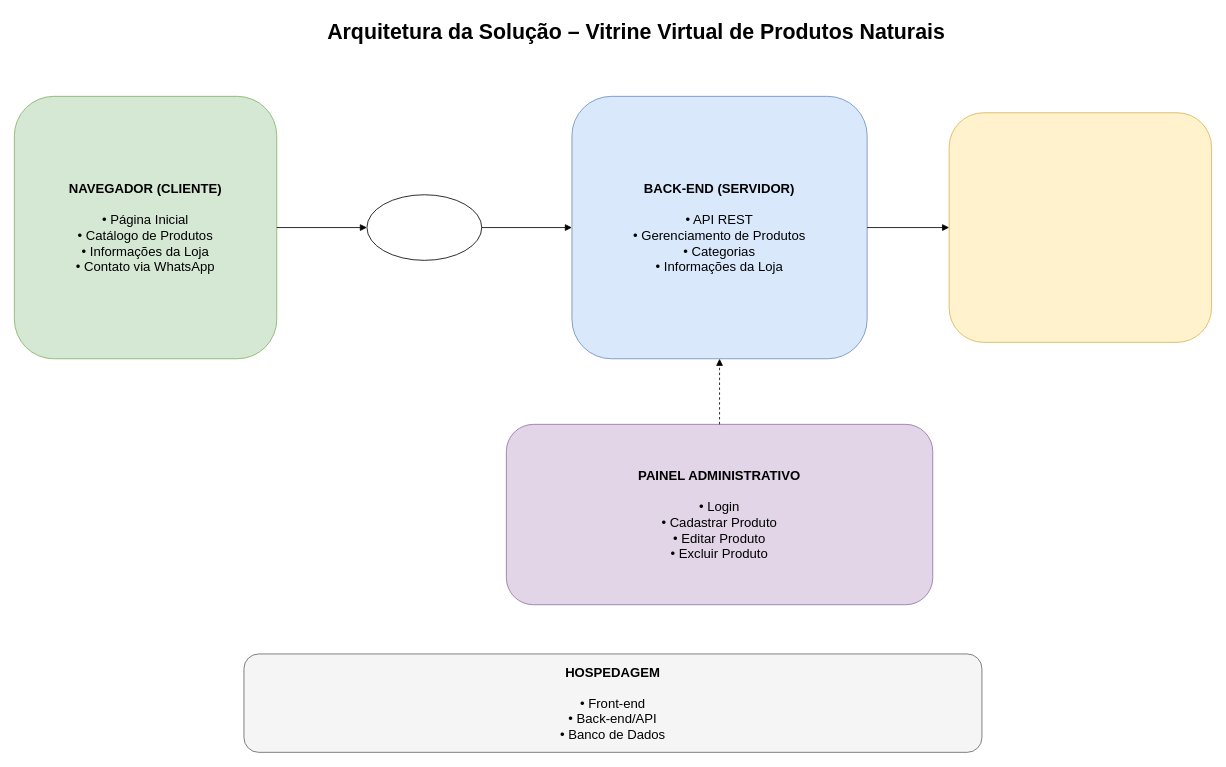
This 1226x767 diagram has some shape labels left out. The shapes that lost their labels are listed below. From the top down, each one's box as (x1, y1, x2, y2) in pixels, then its label:
(366, 194, 482, 260): INTERNET
(948, 112, 1212, 342): BANCO DE DADOS • Produtos • Categorias • Informações da Loja • Usuários (Admin)
